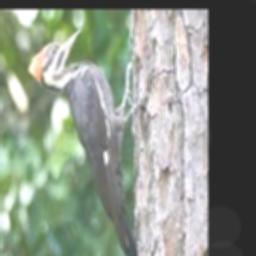Woodpecker: (27, 29, 139, 256)
